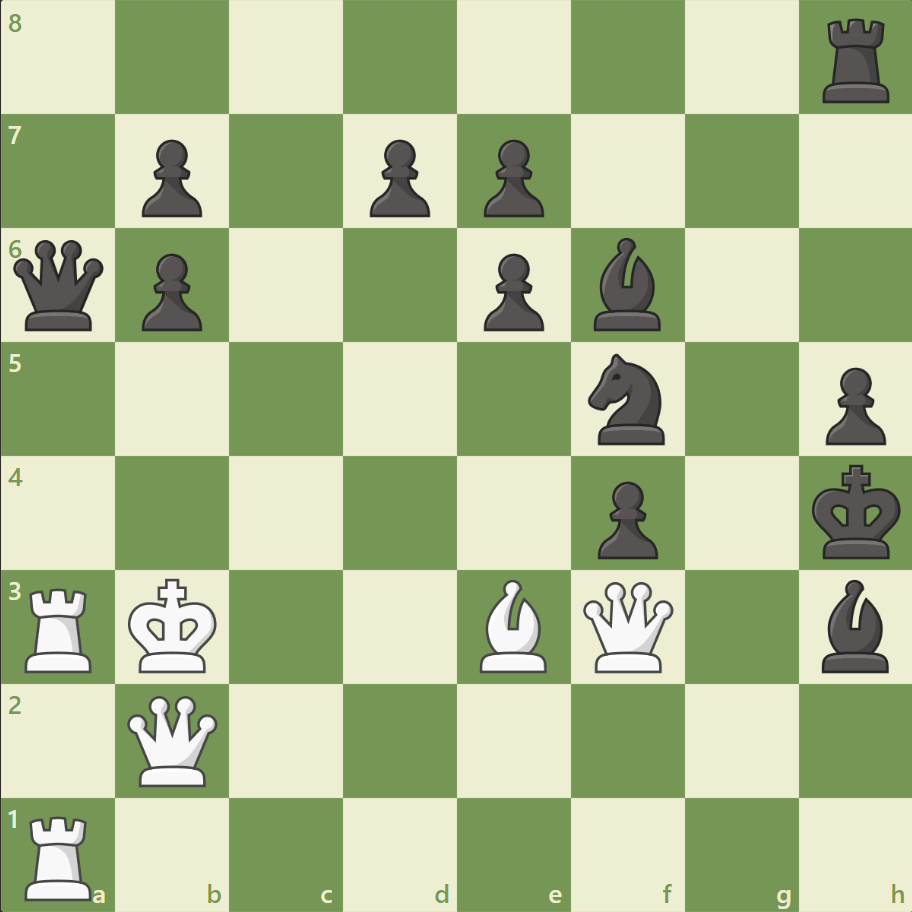B: (471, 574, 555, 676)
K: (124, 571, 224, 679)
Q: (578, 576, 677, 676), (124, 690, 223, 789)
R: (19, 806, 102, 904), (19, 579, 102, 676)
b: (585, 233, 669, 336), (812, 574, 896, 676)
k: (806, 458, 906, 566)
n: (579, 348, 676, 450)
p: (133, 132, 208, 223), (474, 132, 549, 223), (133, 246, 208, 337), (474, 246, 549, 337), (361, 132, 435, 223), (815, 359, 889, 450), (588, 473, 662, 564)
q: (10, 236, 109, 335)
r: (814, 12, 897, 109)
